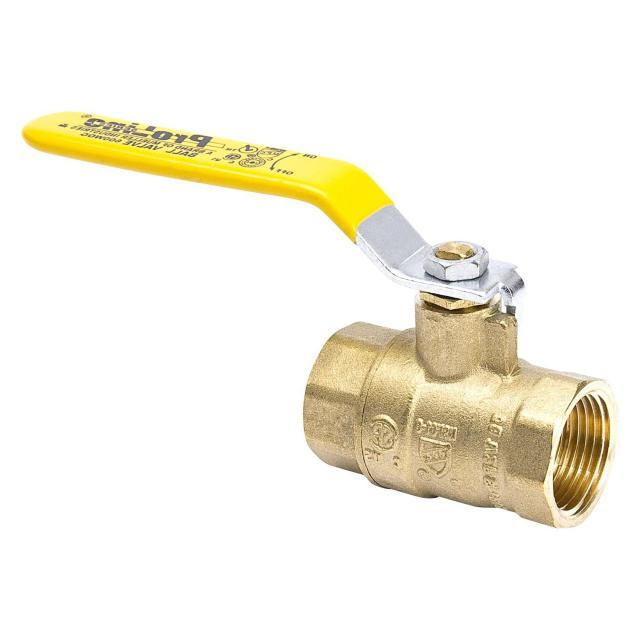opened_valve: (17, 107, 619, 533)
